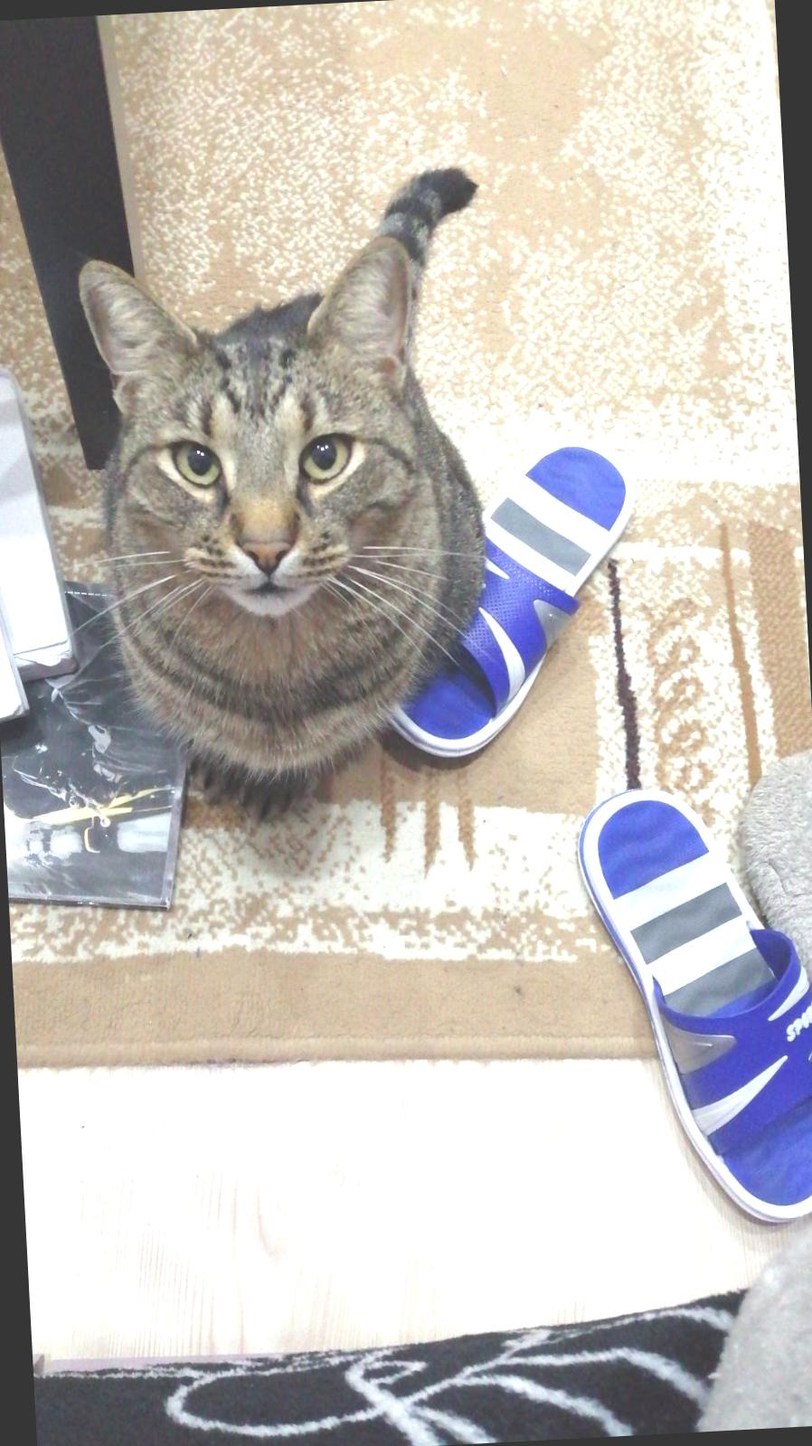macka: (72, 171, 505, 780)
